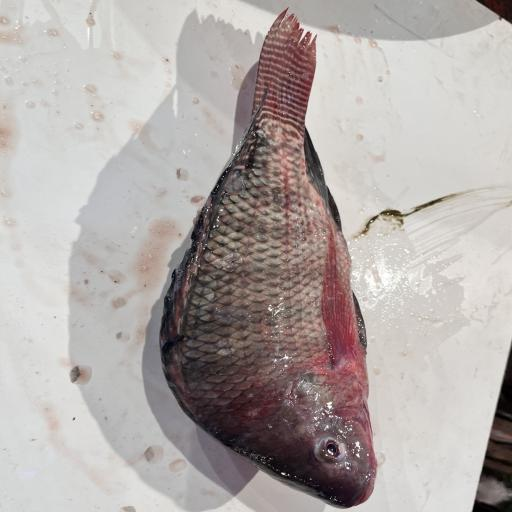Tilapia: (158, 6, 377, 509)
